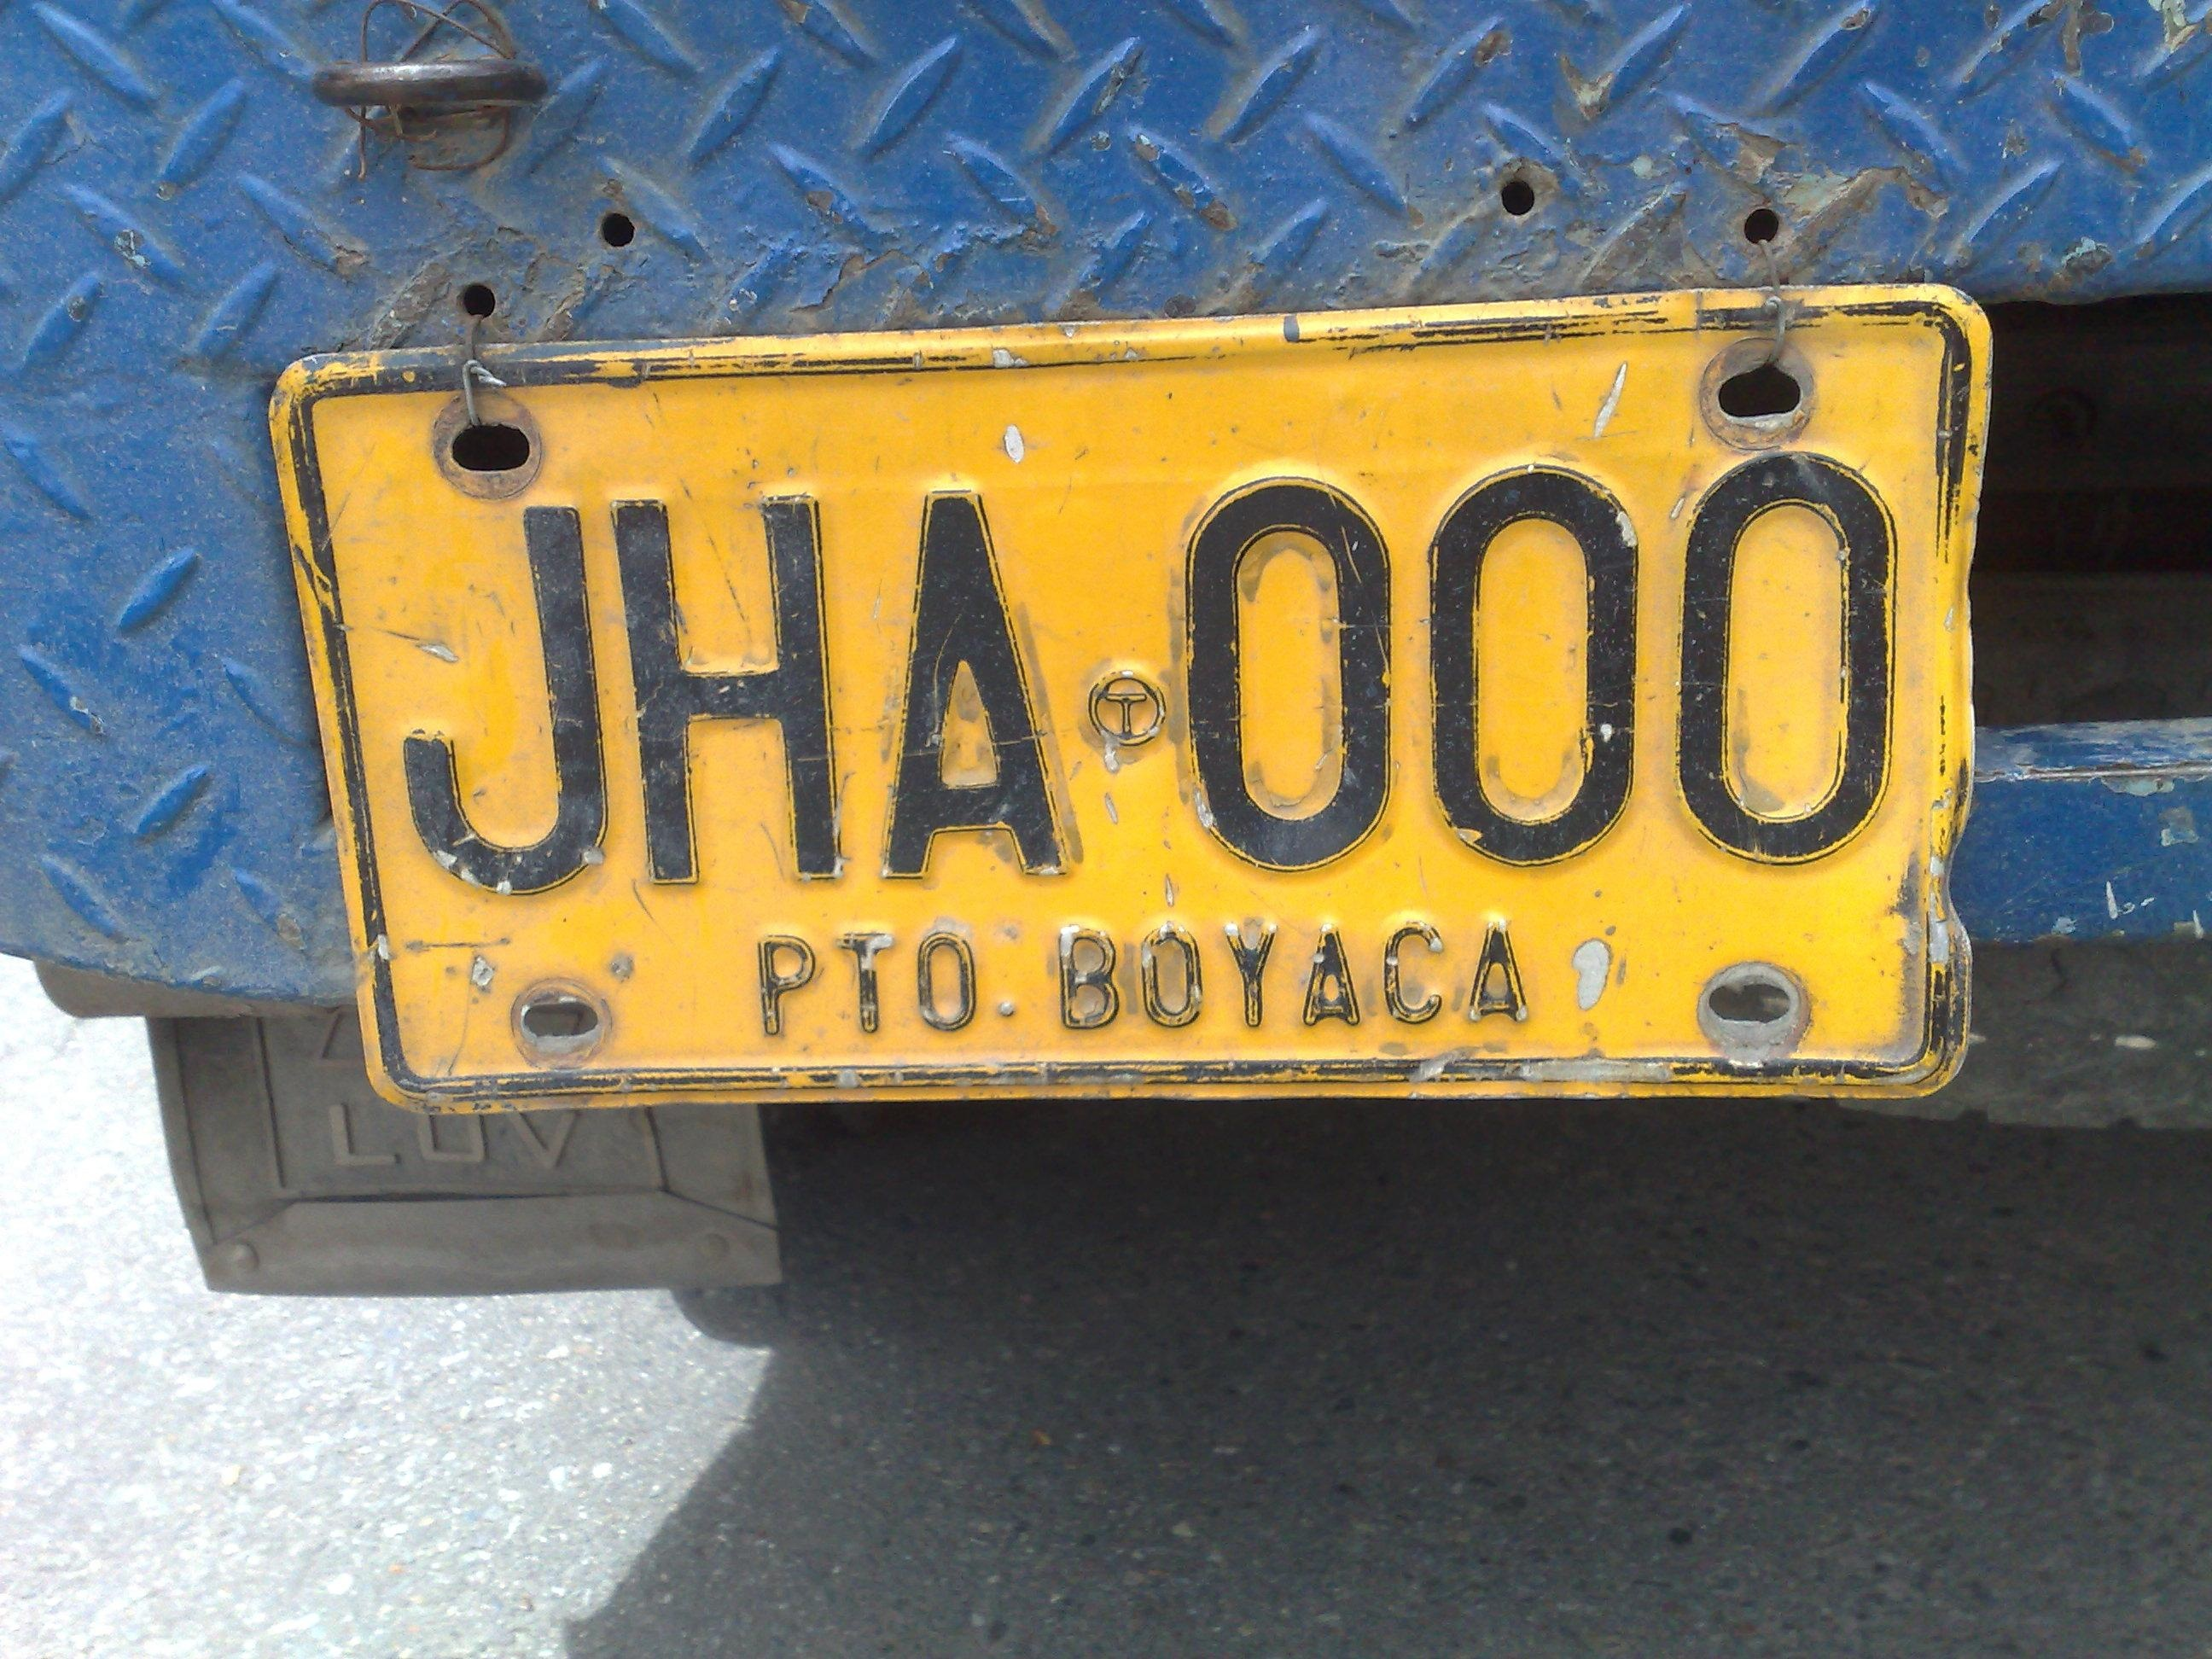placas: (262, 267, 2002, 1121)
